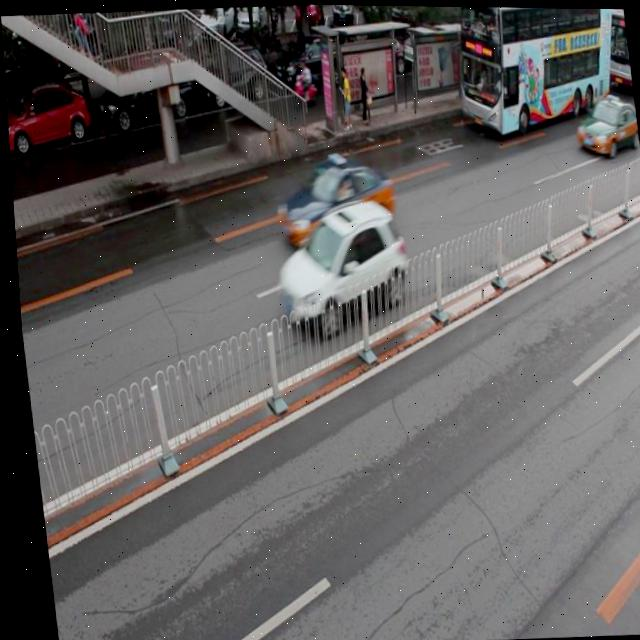car: (262, 195, 409, 338), (271, 151, 396, 246), (94, 61, 193, 132), (4, 82, 90, 159), (198, 44, 268, 111), (269, 35, 348, 94), (570, 91, 639, 158)
van: (450, 5, 622, 137)
